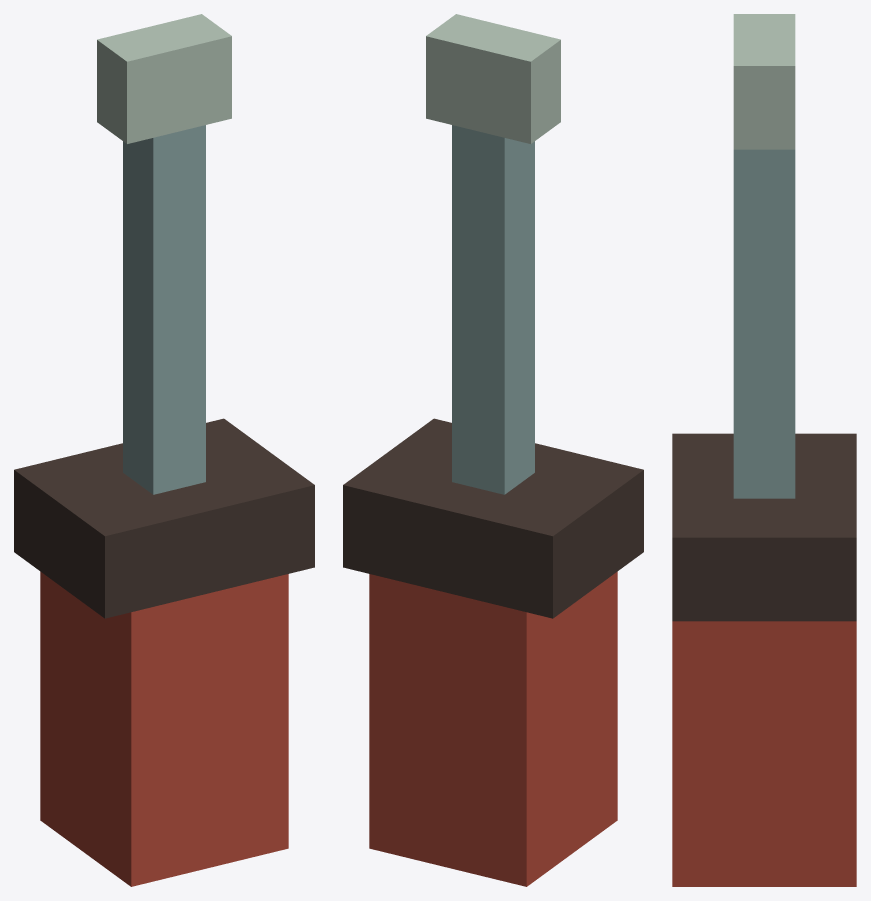
The model's file is voxel_32_10012.glb.
3 views of the same model, side by side, from view 1: azimuth 30°, elevation 25°; view 2: azimuth 150°, elevation 25°; view 3: azimuth 270°, elevation 25° (orthographic).
Visible parts, largest first — view 1: prop_10012; view 2: prop_10012; view 3: prop_10012.
Boxes of the visible parts, left/top/right/bottom form: prop_10012: left=14, top=14, right=314, bottom=886; prop_10012: left=343, top=14, right=643, bottom=886; prop_10012: left=672, top=14, right=856, bottom=886.
Bounding box in the file's own units: 0.2075 × 0.7522 × 0.1556.
